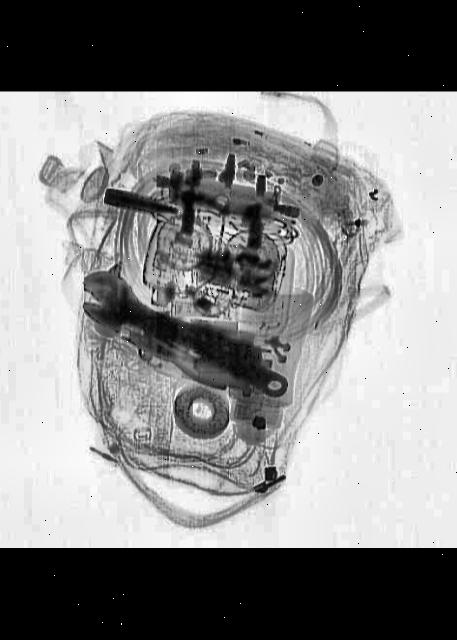Wrench: (61, 262, 306, 409)
